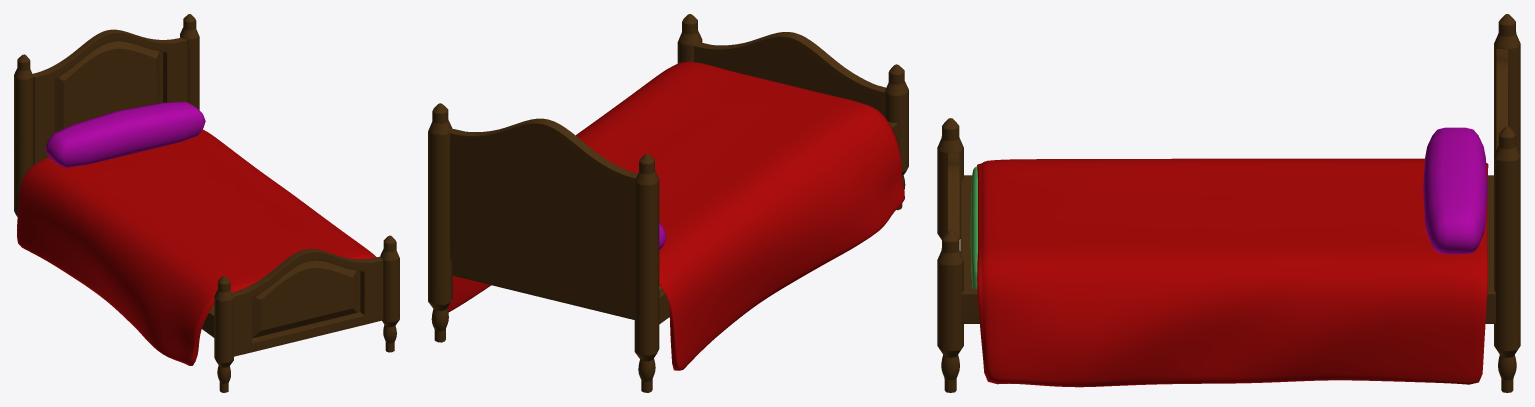
The model's file is PROP_CamaSolteiro_2.fbx.
3 renders of one model, left to right at view 1: azimuth 30°, elevation 25°; view 2: azimuth 150°, elevation 25°; view 3: azimuth 270°, elevation 25°, orthographic. The views are drawn at different scales.
Visible parts, largest first — view 1: Edredom, Cama, Travesseiro; view 2: Edredom, Cama; view 3: Edredom, Cama, Travesseiro, Colchao.
Boxes of the visible parts, x1,y1,x2,y2 form: Edredom: (17,129,376,365); Cama: (14,14,399,392); Travesseiro: (45,101,205,167); Edredom: (447,61,904,370); Cama: (428,14,908,392); Edredom: (977,158,1488,387); Cama: (937,14,1520,392); Travesseiro: (1423,127,1487,254); Colchao: (970,166,977,289).
Size of the model in its own units: 13.04 by 11.17 by 21.85.
